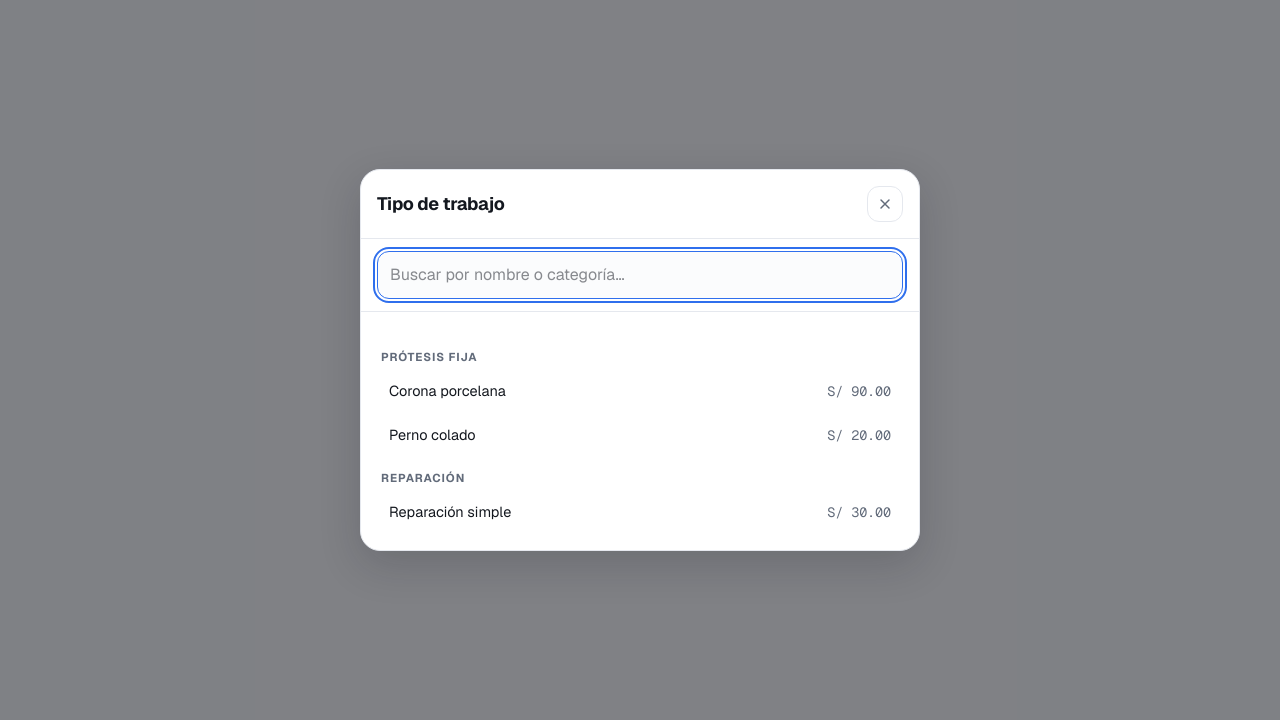
Test case: TipoSheet › sin resultados avisa
In the field labelled "Buscar por nombre o categoría…": [640, 275] box [377,251,903,299], type "zzz"
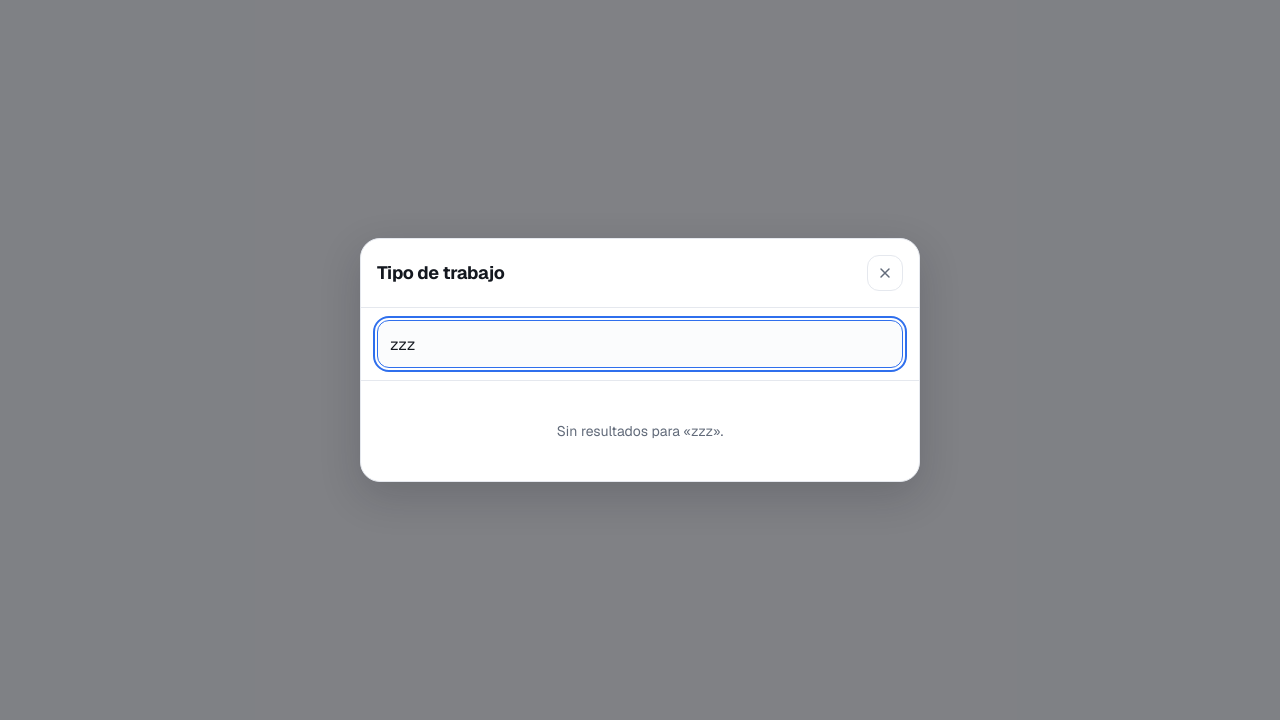
expect the text "Sin resultados para «zzz»." is shown: met, box [557,422,723,440]
